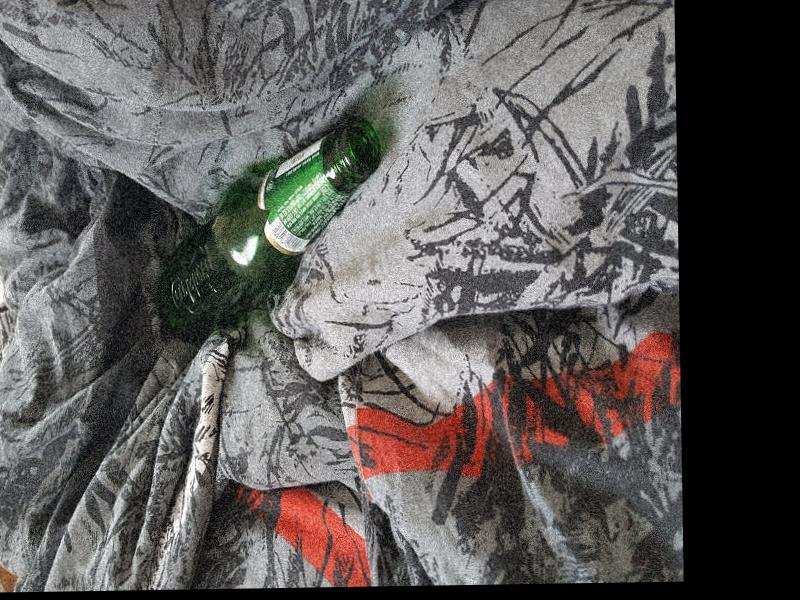Beer: (154, 120, 386, 342)
